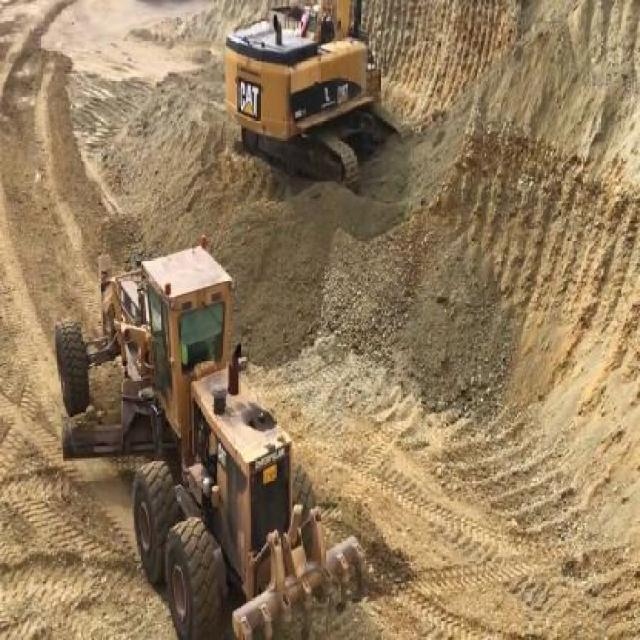Excavator: (222, 0, 413, 191)
Grader: (55, 233, 374, 635)
